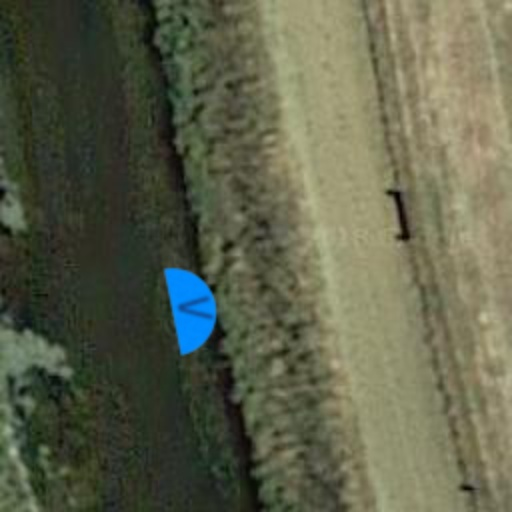semicircle: (142, 256, 246, 360)
